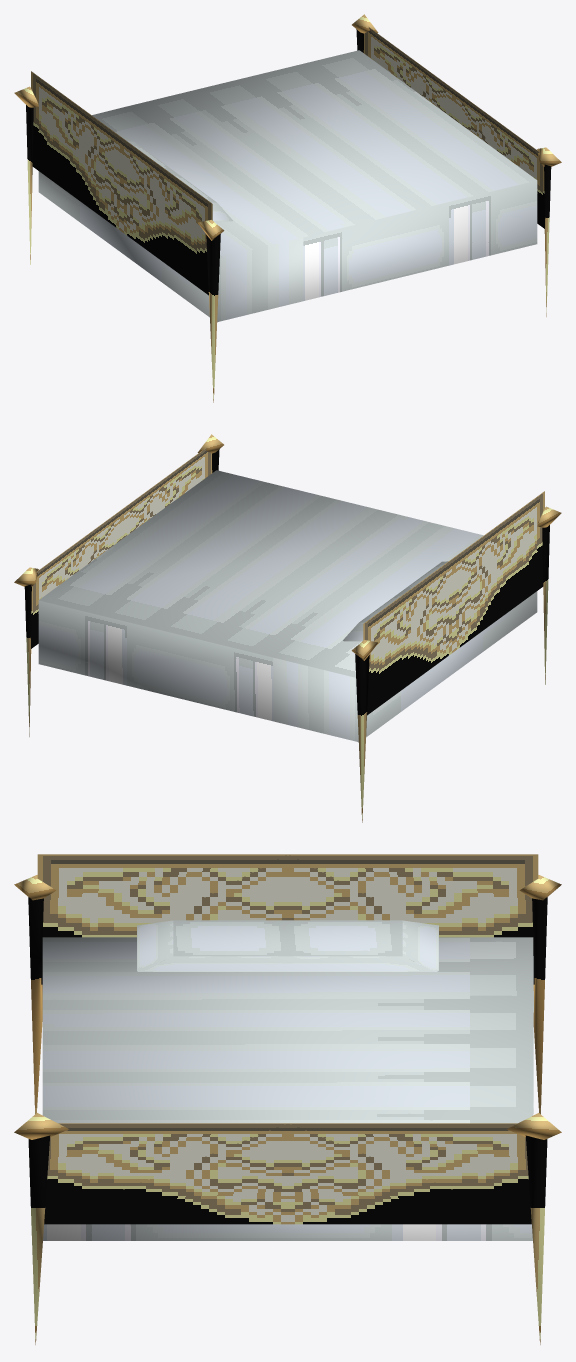
3 views of the same model, one above another, from view 1: azimuth 30°, elevation 25°; view 2: azimuth 150°, elevation 25°; view 3: azimuth 270°, elevation 25° (orthographic). The views are drawn at different scales.
Visible parts, largest first — view 1: 3083IMRL06_01; view 2: 3083IMRL06_01; view 3: 3083IMRL06_01.
Boxes of the visible parts, left/top/right/bottom form: 3083IMRL06_01: left=14, top=14, right=561, bottom=402; 3083IMRL06_01: left=14, top=434, right=561, bottom=822; 3083IMRL06_01: left=14, top=854, right=561, bottom=1344.
Bounding box in the file's own units: 1.98 × 1.09 × 1.95.
3 materials, 3 textured.
